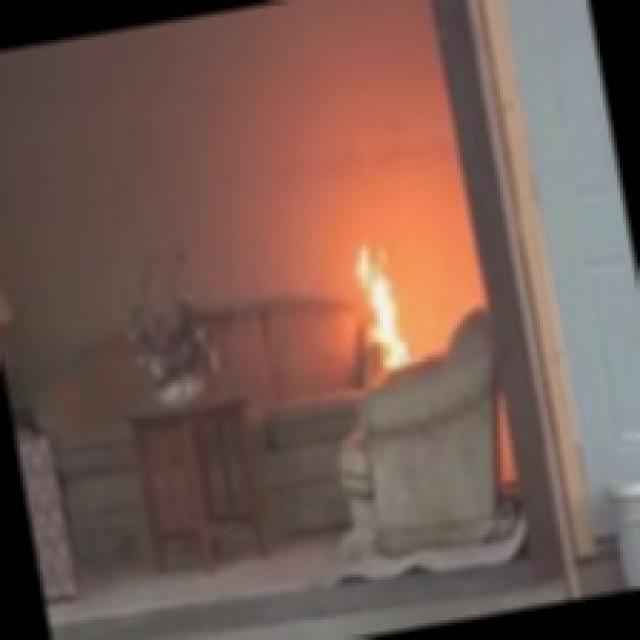fire: (320, 220, 431, 397)
